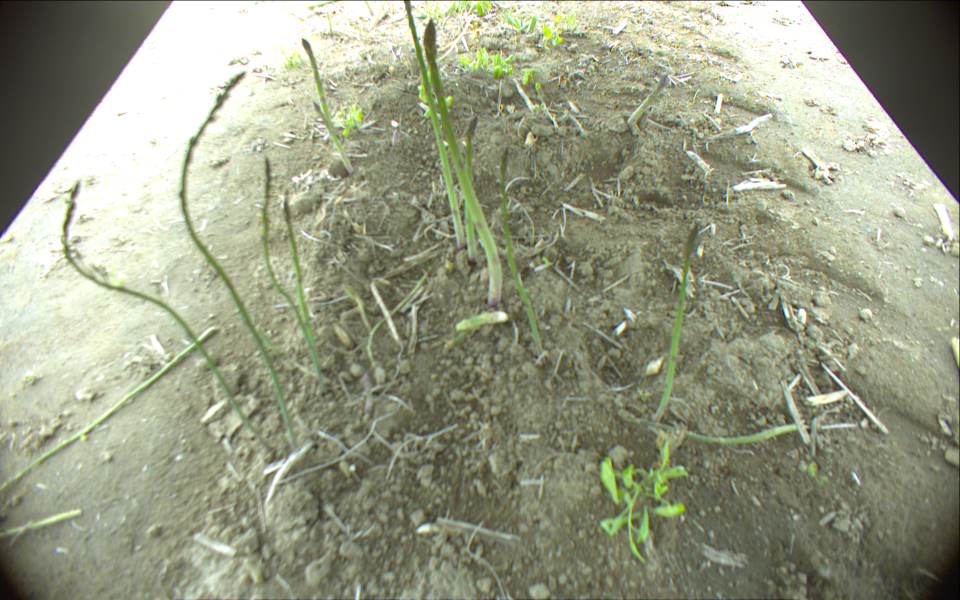aspa: (62, 177, 270, 450), (169, 69, 300, 447), (1, 328, 225, 494), (421, 20, 504, 303), (400, 1, 466, 247), (250, 158, 318, 360), (650, 219, 704, 420), (500, 147, 549, 359), (279, 190, 321, 363), (646, 418, 820, 455), (297, 34, 338, 139), (313, 104, 356, 174), (1, 508, 83, 540), (464, 119, 479, 271), (627, 72, 669, 123), (308, 1, 347, 10), (325, 1, 334, 38), (360, 1, 374, 15)
